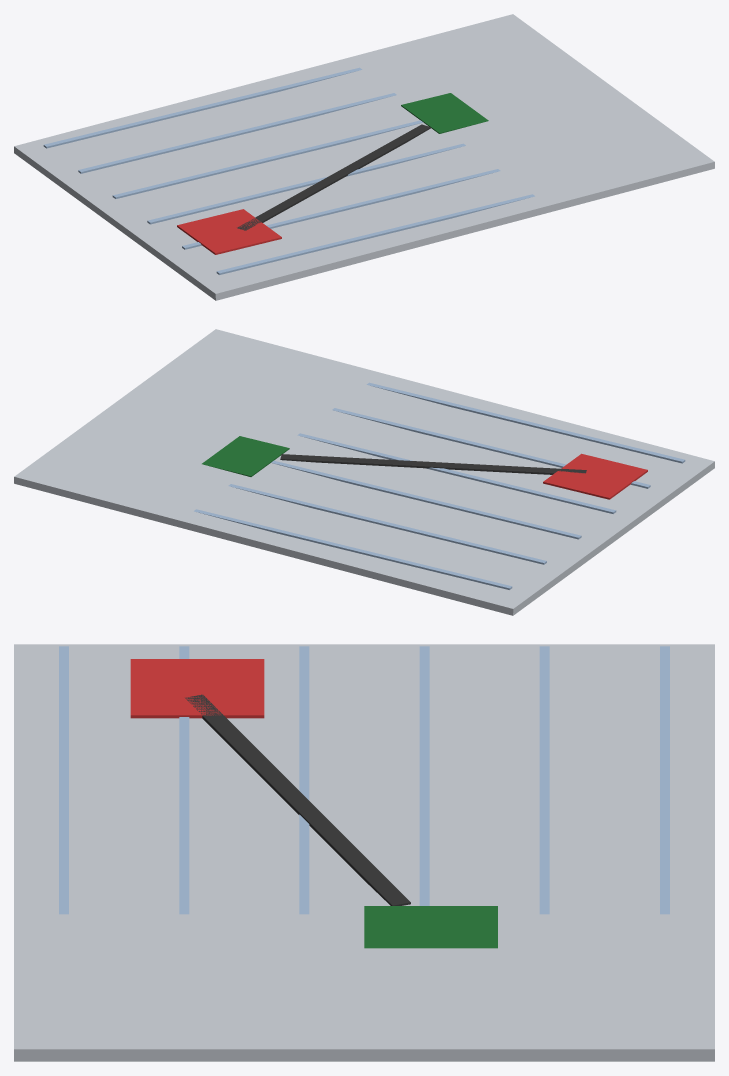
The model's file is tunnel_plan.glb.
3 views of the same model, one above another, from view 1: azimuth 30°, elevation 25°; view 2: azimuth 150°, elevation 25°; view 3: azimuth 270°, elevation 25° (orthographic). The views are drawn at different scales.
Parts seen in each view (by area): view 1: paper_plan_paper, grid_plan_grid, shop_ink_red, bank_plan_bank, line_plan_pencil; view 2: paper_plan_paper, grid_plan_grid, shop_ink_red, line_plan_pencil, bank_plan_bank; view 3: paper_plan_paper, grid_plan_grid, shop_ink_red, bank_plan_bank, line_plan_pencil.
Part boxes in pixels (bbox=[...]): paper_plan_paper: bbox=[14, 14, 714, 300]; grid_plan_grid: bbox=[43, 67, 534, 274]; shop_ink_red: bbox=[177, 209, 281, 254]; bank_plan_bank: bbox=[401, 93, 488, 133]; line_plan_pencil: bbox=[237, 124, 430, 230]; paper_plan_paper: bbox=[14, 329, 714, 615]; grid_plan_grid: bbox=[194, 382, 685, 589]; shop_ink_red: bbox=[543, 453, 647, 499]; line_plan_pencil: bbox=[280, 454, 586, 474]; bank_plan_bank: bbox=[202, 436, 289, 476]; paper_plan_paper: bbox=[14, 644, 714, 1061]; grid_plan_grid: bbox=[59, 646, 669, 914]; shop_ink_red: bbox=[130, 659, 264, 718]; bank_plan_bank: bbox=[364, 906, 497, 948]; line_plan_pencil: bbox=[185, 694, 410, 905].
Size of the model in its own units: 0.3 by 0.01 by 0.21.
